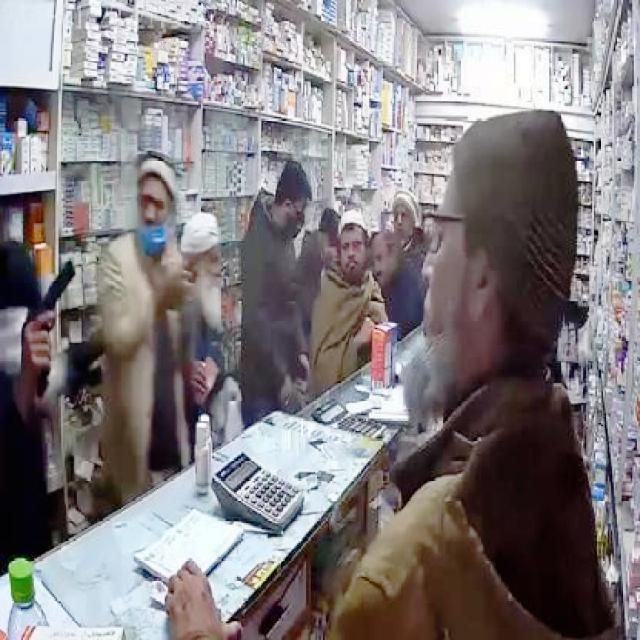Gun: (23, 258, 89, 354)
